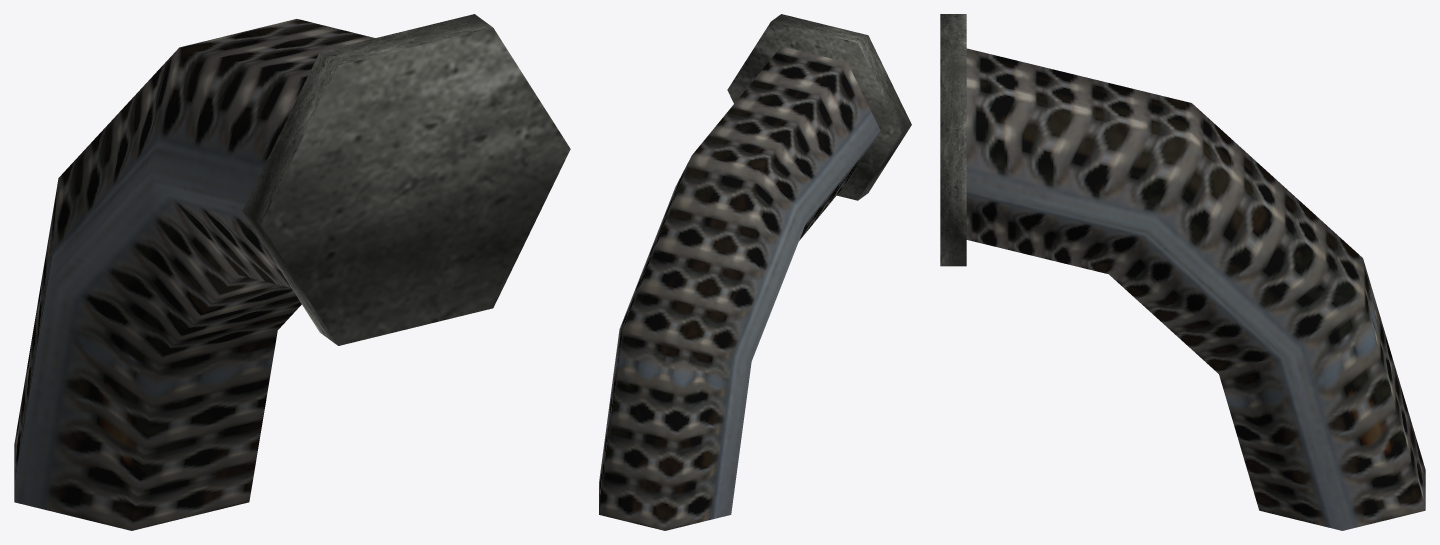
The model's file is small_mesh_2_elbowCapped.fbx.
3 renders of one model, left to right at view 1: azimuth 30°, elevation 25°; view 2: azimuth 150°, elevation 25°; view 3: azimuth 270°, elevation 25°, orthographic. The views are drawn at different scales.
Visible parts, largest first — view 1: ribbed_elbow_capped1; view 2: ribbed_elbow_capped1; view 3: ribbed_elbow_capped1.
Boxes of the visible parts, x1,y1,x2,y2 form: ribbed_elbow_capped1: [14, 14, 570, 530]; ribbed_elbow_capped1: [599, 14, 911, 530]; ribbed_elbow_capped1: [940, 14, 1425, 530].
Bounding box in the file's own units: 0.3294 × 0.6454 × 0.6315.
